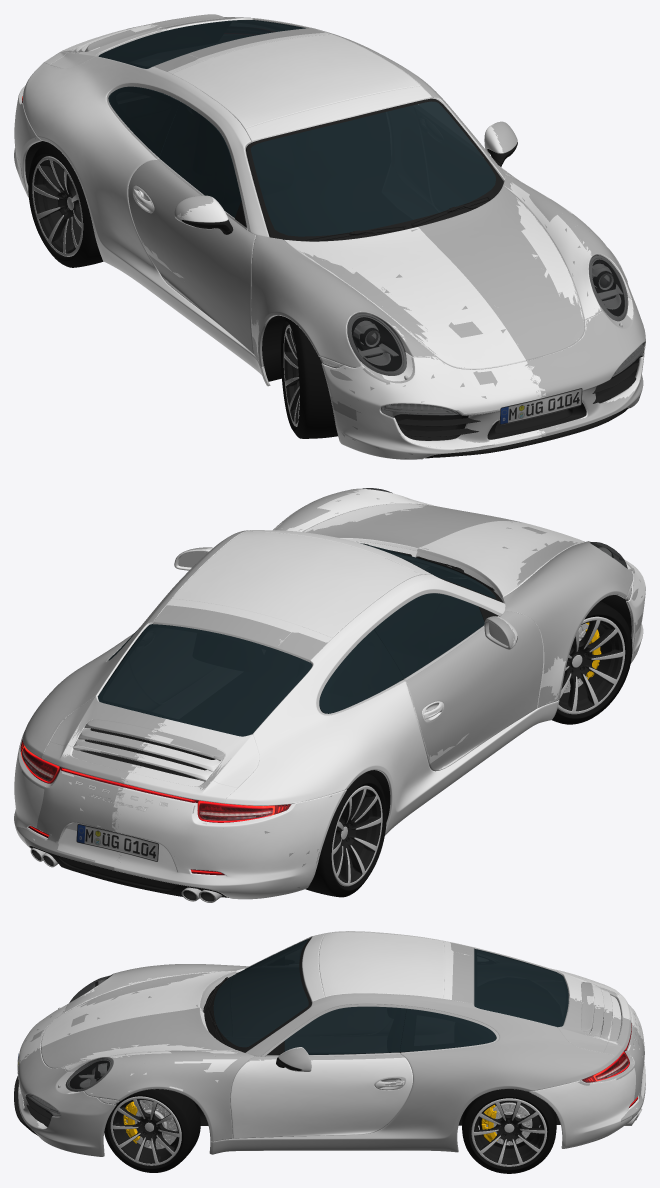
Rendered from porsche.glb.
The picture shows the model from 3 angles, top to bottom: view 1: azimuth 30°, elevation 25°; view 2: azimuth 150°, elevation 25°; view 3: azimuth 270°, elevation 25°; orthographic projection. The views are drawn at different scales.
Visible parts, largest first — view 1: boot.011_0.003, boot.011_0.001, windshield, boot.011, boot.004, Cylinder.000, boot.010, Cylinder.001, bumper_front.007, bumper_front.004, window_rear, Plane.006 (+6 smaller); view 2: boot.011_0.003, boot.011_0.001, boot.011, window_rear, boot.004, Cylinder.001, Cylinder.000, Plane.001, boot.009, underbody, boot.010, Plane.005 (+1 smaller); view 3: boot.011_0.003, boot.011, boot.004, windshield, Cylinder.001, Cylinder.000, window_rear, boot.011_0.001, boot.009, bumper_front.007, bumper_front.004, boot.010 (+2 smaller).
Part boxes in pixels (box(x1,y1,x2,y2)): boot.011_0.003: box(14, 14, 645, 459); boot.011_0.001: box(15, 27, 598, 458); windshield: box(246, 98, 503, 241); boot.011: box(63, 14, 645, 440); boot.004: box(108, 86, 241, 217); Cylinder.000: box(28, 143, 103, 267); boot.010: box(181, 142, 639, 458); Cylinder.001: box(281, 318, 337, 438); bumper_front.007: box(347, 255, 628, 375); bumper_front.004: box(347, 256, 626, 375); window_rear: box(98, 20, 305, 68); Plane.006: box(499, 388, 582, 424); boot.011_0.003: box(14, 488, 645, 899); boot.011_0.001: box(18, 494, 642, 887); boot.011: box(16, 488, 633, 871); window_rear: box(97, 624, 312, 736); boot.004: box(108, 593, 484, 713); Cylinder.001: box(552, 601, 632, 724); Cylinder.000: box(305, 772, 386, 897); Plane.001: box(20, 739, 291, 875); boot.009: box(30, 552, 508, 902); underbody: box(80, 595, 631, 897); boot.010: box(29, 577, 517, 897); Plane.005: box(76, 824, 158, 861); boot.011_0.003: box(18, 931, 645, 1156); boot.011: box(18, 932, 645, 1156); boot.004: box(284, 1006, 496, 1054); windshield: box(204, 938, 311, 1052); Cylinder.001: box(104, 1089, 200, 1172); Cylinder.000: box(462, 1089, 556, 1173); window_rear: box(474, 948, 568, 1027); boot.011_0.001: box(25, 935, 638, 1148); boot.009: box(58, 1004, 642, 1125); bumper_front.007: box(65, 975, 113, 1091); bumper_front.004: box(66, 976, 113, 1091); boot.010: box(14, 1041, 636, 1135).
Bounding box in the file's own units: 1.98 × 1.26 × 4.38.
Materials: 13 (3 with a texture image).
